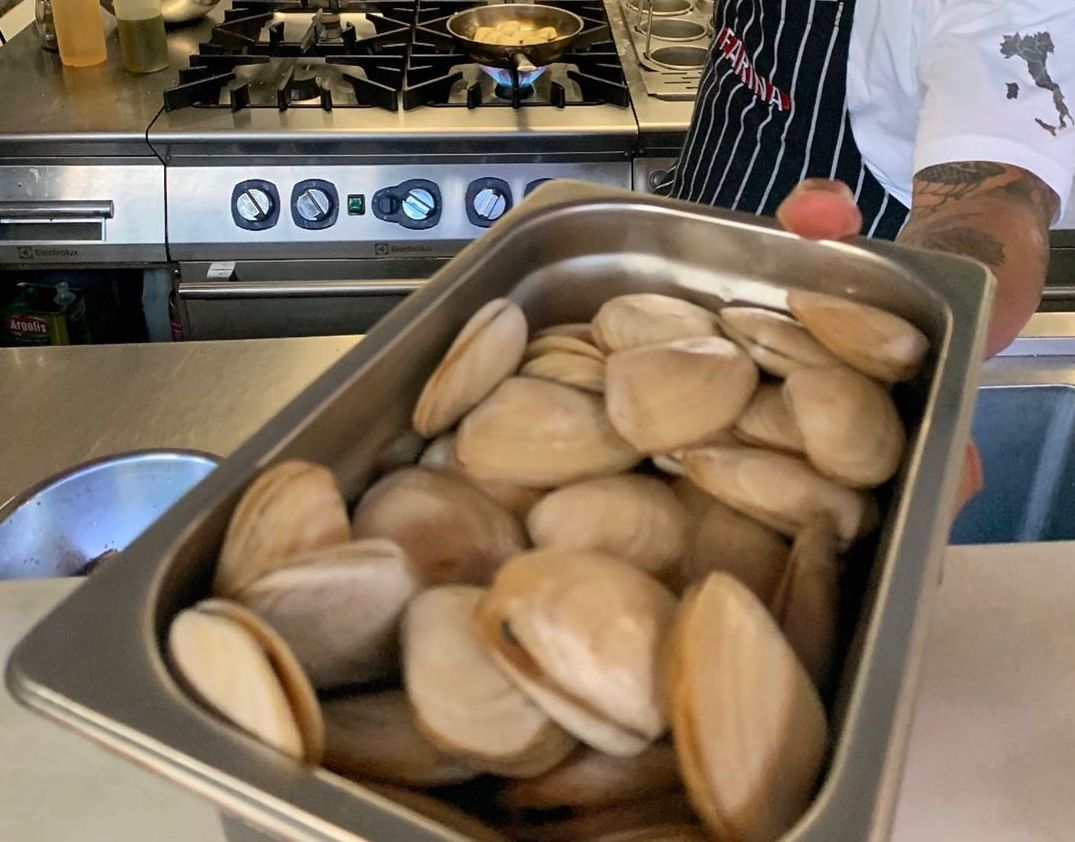tuatua: (472, 542, 696, 756), (664, 567, 821, 823), (237, 538, 421, 677), (453, 373, 652, 480), (602, 332, 754, 456), (524, 468, 702, 571), (413, 292, 527, 442), (783, 353, 907, 487), (789, 286, 928, 385)
